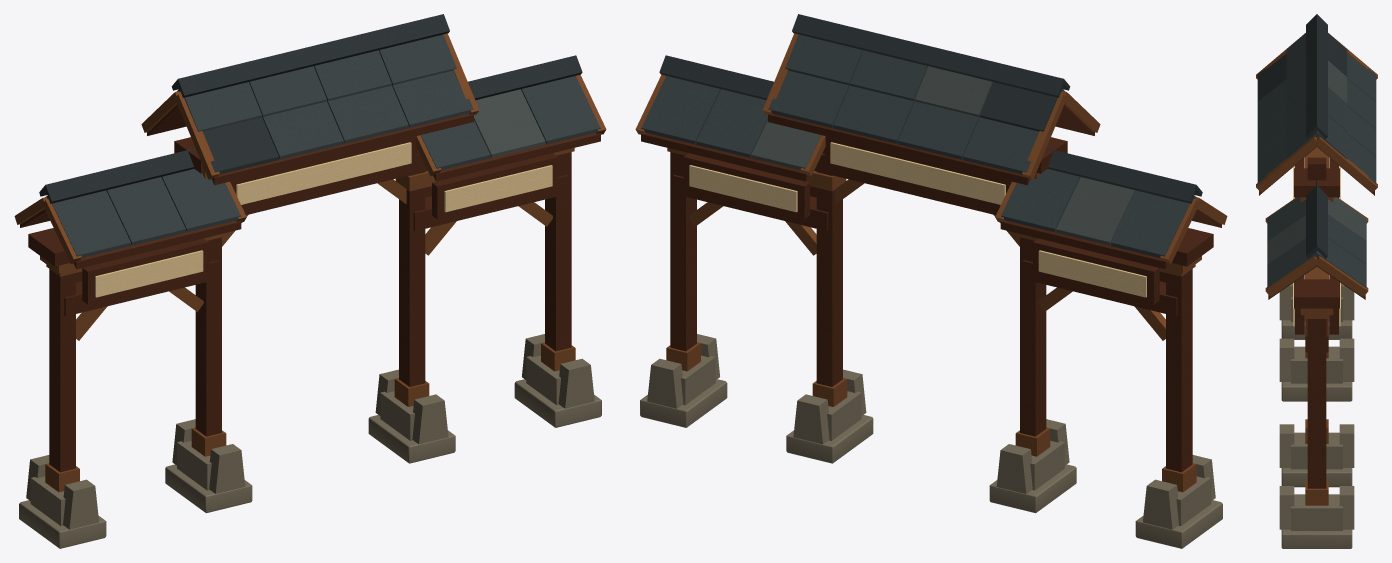
File: ceremonial_archway.glb
3 renders of one model, left to right at view 1: azimuth 30°, elevation 25°; view 2: azimuth 150°, elevation 25°; view 3: azimuth 270°, elevation 25°, orthographic. The views are drawn at different scales.
Visible parts, largest first — view 1: Archway_CenterRoof, Archway_WingRoofs, Archway_Frame, Archway_StoneFeet, Archway_BlankPlaques, Archway_Brackets; view 2: Archway_CenterRoof, Archway_WingRoofs, Archway_Frame, Archway_StoneFeet, Archway_BlankPlaques, Archway_Brackets; view 3: Archway_CenterRoof, Archway_StoneFeet, Archway_WingRoofs, Archway_Frame, Archway_Brackets, Archway_BlankPlaques.
Boxes of the visible parts, left/top/right/bottom form: Archway_CenterRoof: left=141, top=14, right=479, bottom=185; Archway_WingRoofs: left=14, top=55, right=606, bottom=269; Archway_Frame: left=45, top=148, right=575, bottom=492; Archway_StoneFeet: left=19, top=334, right=601, bottom=548; Archway_BlankPlaques: left=76, top=136, right=558, bottom=304; Archway_Brackets: left=28, top=137, right=207, bottom=273; Archway_CenterRoof: left=762, top=14, right=1100, bottom=185; Archway_WingRoofs: left=635, top=55, right=1227, bottom=269; Archway_Frame: left=666, top=148, right=1196, bottom=492; Archway_StoneFeet: left=640, top=334, right=1222, bottom=548; Archway_BlankPlaques: left=683, top=136, right=1165, bottom=304; Archway_Brackets: left=1034, top=137, right=1213, bottom=273; Archway_CenterRoof: left=1256, top=14, right=1377, bottom=195; Archway_StoneFeet: left=1279, top=283, right=1354, bottom=548; Archway_WingRoofs: left=1265, top=180, right=1368, bottom=299; Archway_Frame: left=1305, top=147, right=1328, bottom=505; Archway_Brackets: left=1294, top=168, right=1339, bottom=315; Archway_BlankPlaques: left=1293, top=157, right=1340, bottom=334.
Bounding box in the file's own units: 6.95 × 5.16 × 1.56.
7 materials, 7 textured.
